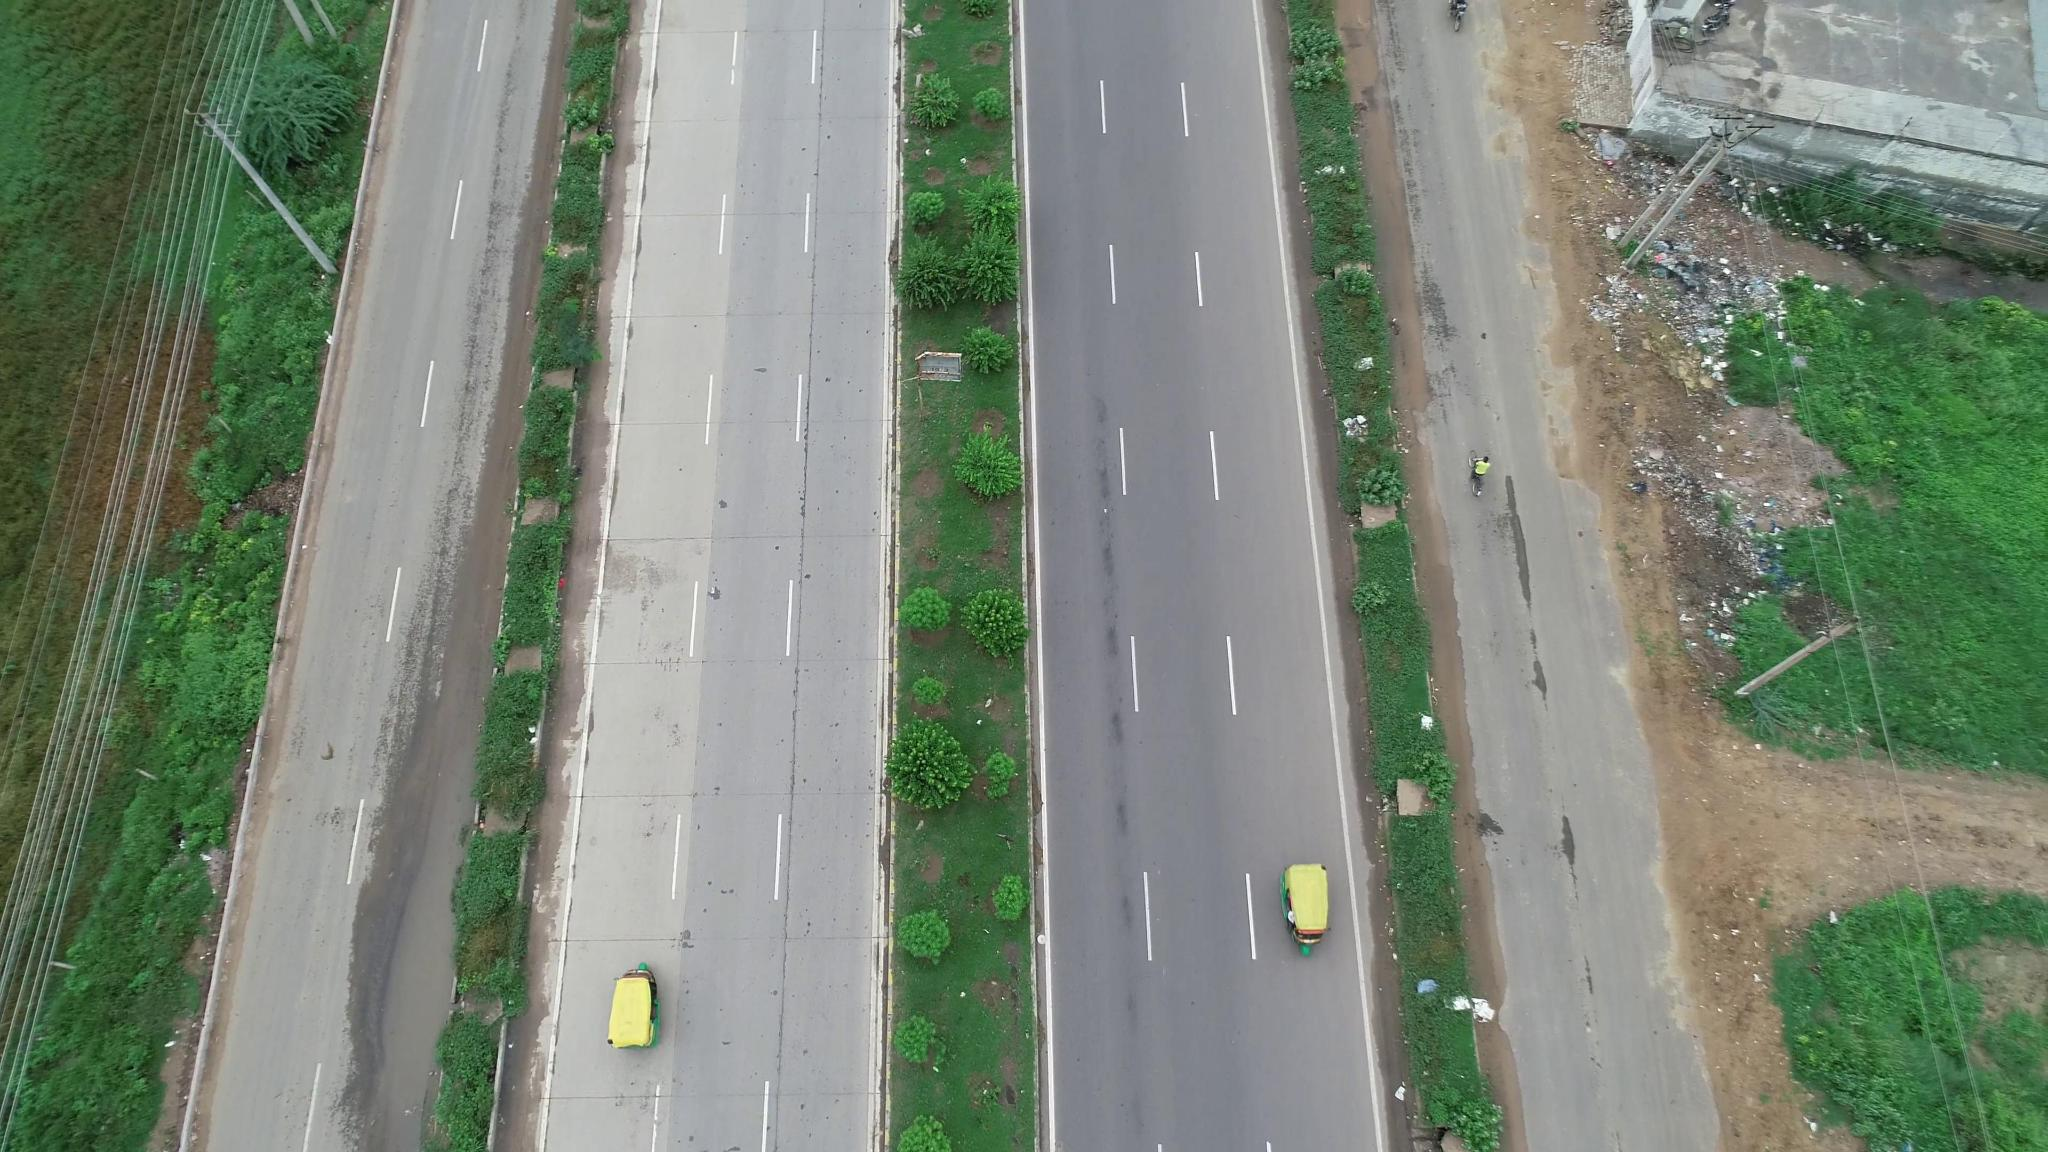Ravelling: (1416, 232, 1461, 399), (1395, 96, 1440, 225)
